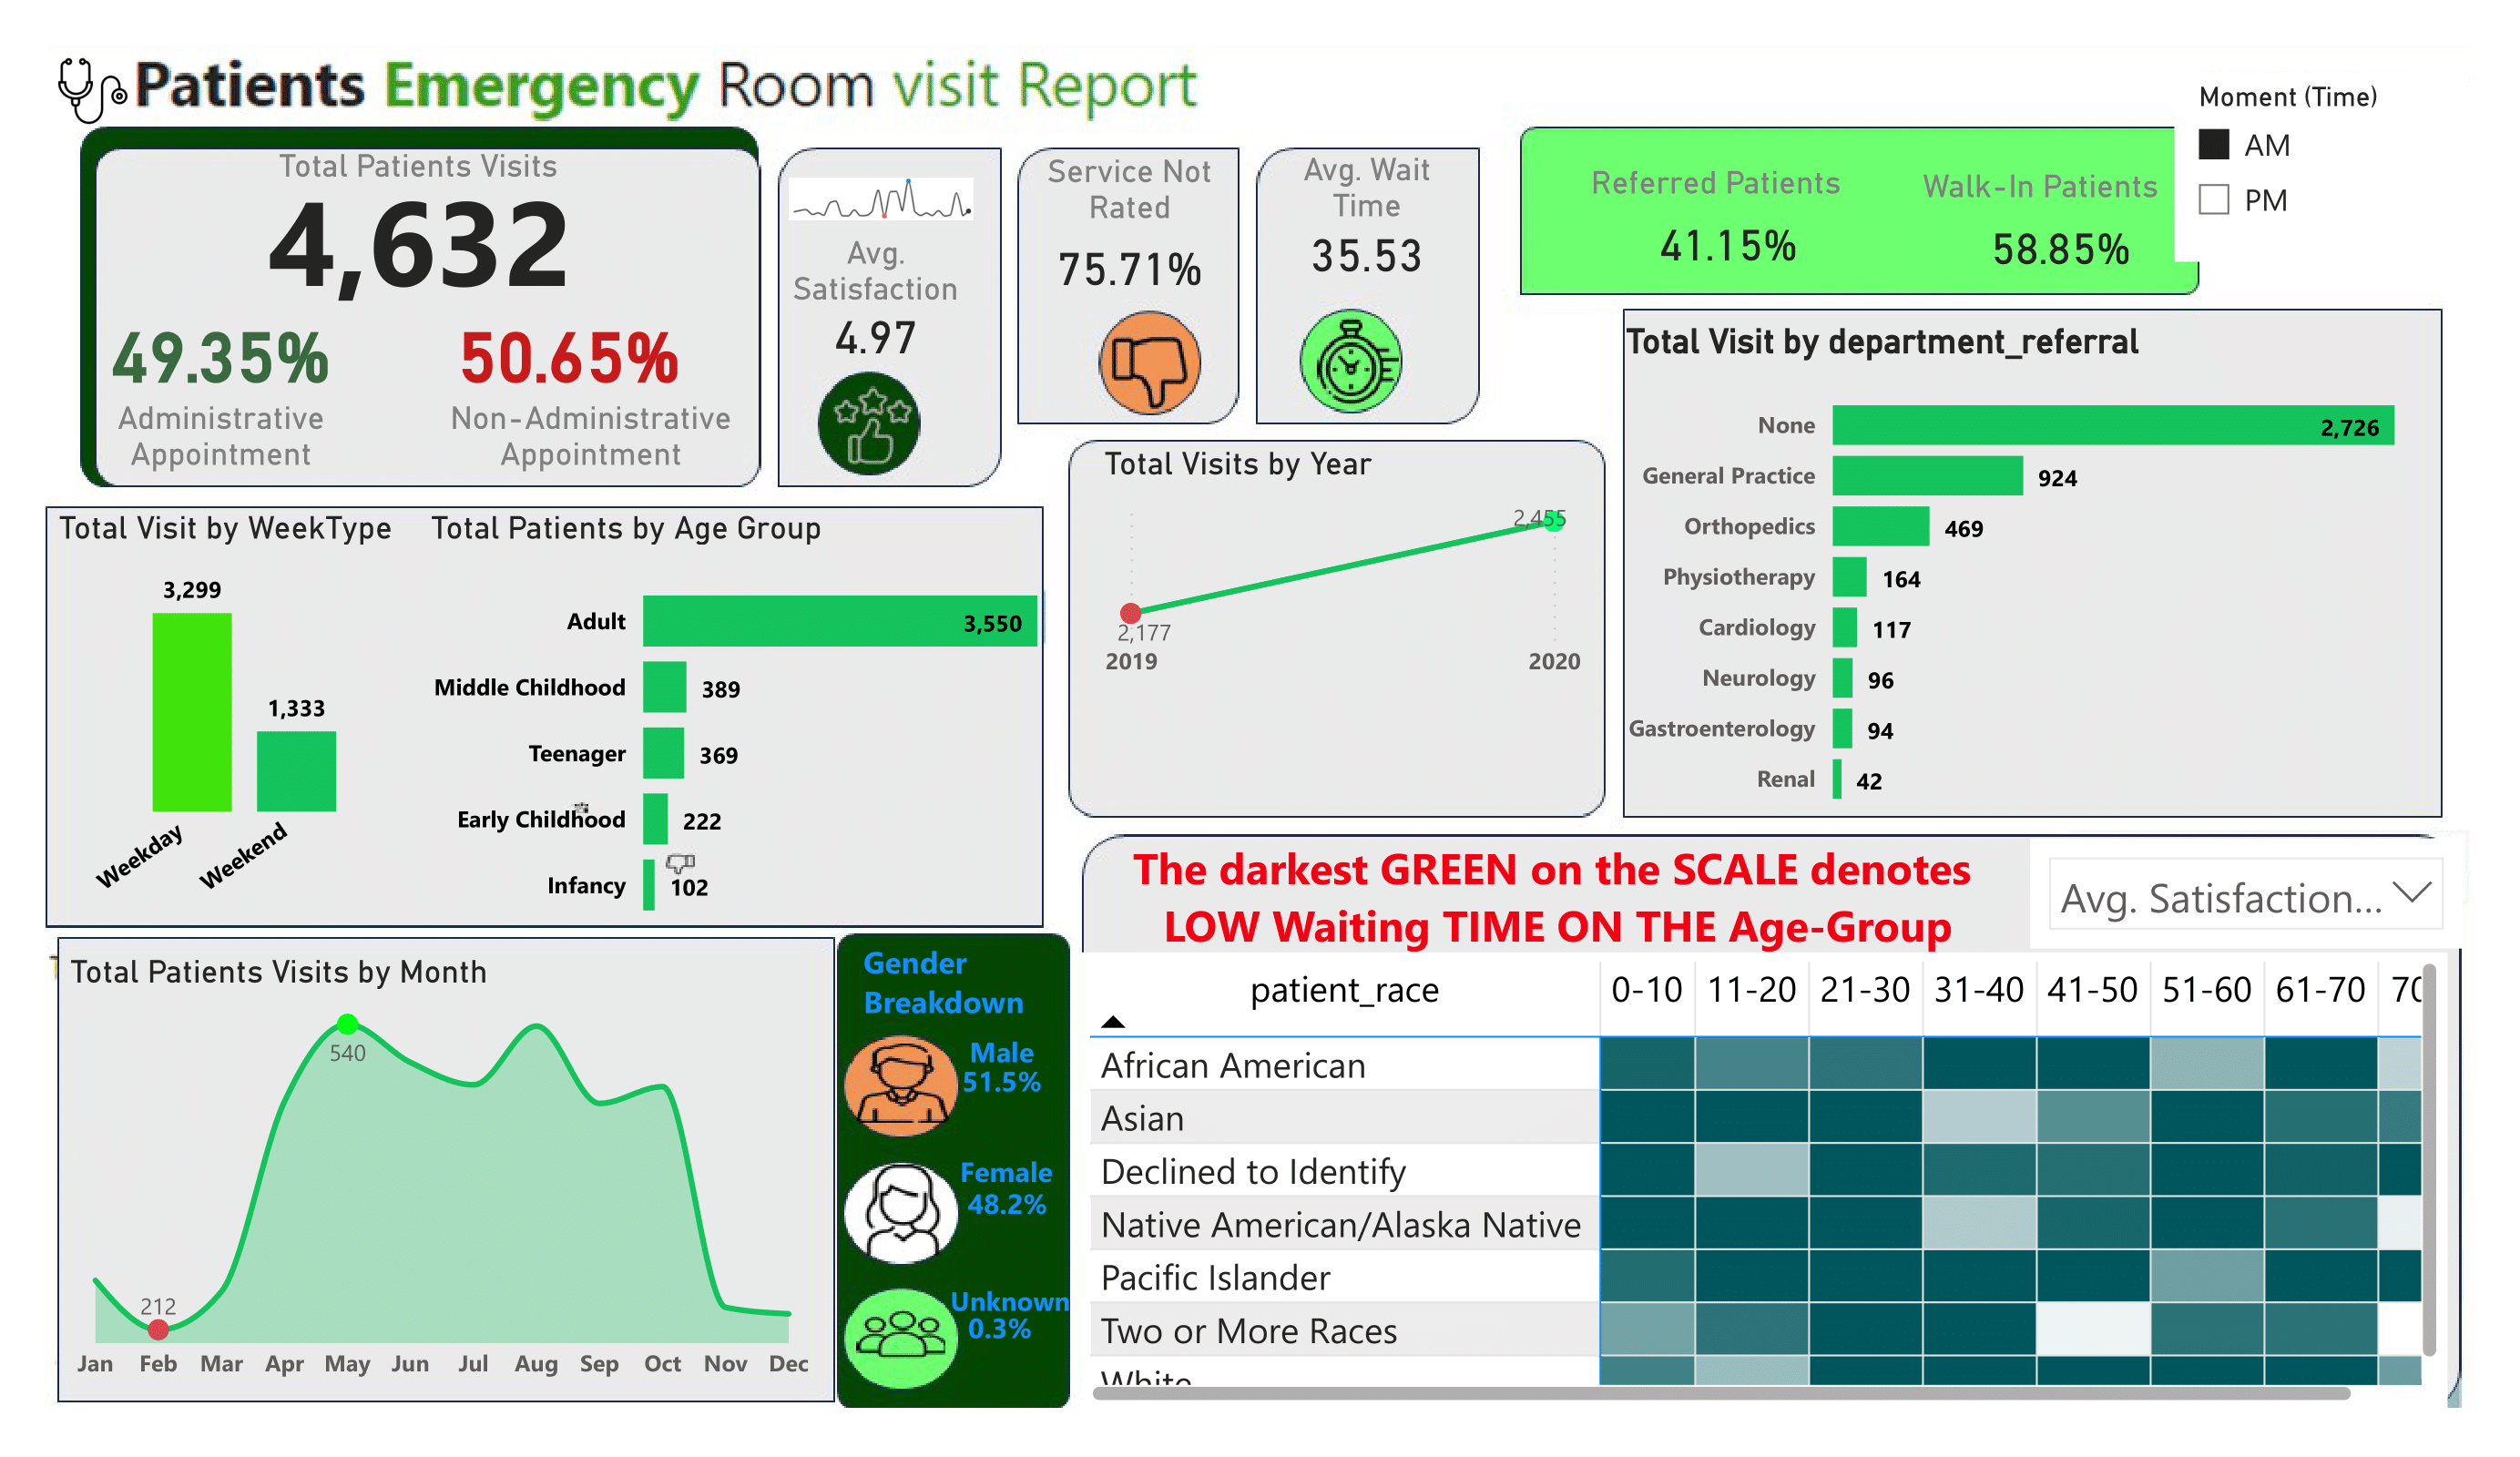

The dashboard page shown, as its layout file describes it:
{"tool":"powerbi","page":{"name":"Page 1","canvas":[1280,720],"ordinal":0},"visuals":[{"type":"card","title":"Total Patients Visit","fields":{"Values":["Calculation.Total Patients"]},"box":[60.2,54.2,275,90.3],"z":0},{"type":"card","fields":{"Values":["Calculation.% Administrative Schedule"]},"box":[29.5,128.4,126.3,65.2],"z":1000},{"type":"card","fields":{"Values":["Calculation.% None - Administrative Schedule"]},"box":[206.2,128.4,138.9,65.2],"z":2000},{"type":"card","fields":{"Values":["Calculation.% Refrred Patients"]},"box":[820.7,71.5,132.6,65.2],"z":3000},{"type":"pivotTable","fields":{"Values":["Calculation.Average Satisfaction Score"],"Rows":["Patient Dataset.patient_race"],"Columns":["Patient Dataset.Age Buckets"]},"box":[546.3,477.6,720,242.4],"z":4000},{"type":"slicer","fields":{"Values":["Parameter.Parameter"]},"box":[1046,418,228,58],"z":5000},{"type":"barChart","fields":{"Category":["Patient Dataset.Age Group"],"Y":["Calculation.Total Patients"]},"box":[198,244,356,232],"z":6000},{"type":"slicer","fields":{"Values":["Patient Dataset.Moment"]},"box":[1122.3,14.1,152.6,100.4],"z":7000},{"type":"clusteredBarChart","title":"Total Visit by department_referral","fields":{"Y":["Calculation.Total Patients"],"Category":["Patient Dataset.department_referral"]},"box":[827.6,144.6,453,268.5],"z":8000},{"type":"areaChart","title":"Total Patients Visits by Month","fields":{"Category":["Date.Month"],"Y":["Calculation.Total Patients","Calculation.Values Max Point (Month)"]},"box":[8,477.8,401.5,234.9],"z":9000},{"type":"lineChart","title":"Total Visits by Year","fields":{"Category":["Date.Year"],"Y":["Calculation.Total Patients","Calculation.Values Max Point (YEAR)"]},"box":[553.5,210.4,260.9,132.6],"z":10000},{"type":"card","fields":{"Values":["Calculation.% Un Refrred Patients"]},"box":[1000.8,74,122.1,65.2],"z":11000},{"type":"card","fields":{"Values":["Calculation.HitMap Caption"]},"box":[547.5,395.6,492.1,100.1],"z":12000},{"type":"columnChart","title":"Total Visit by WeekType","fields":{"Category":["Date.WeekType"],"Y":["Calculation.Total Patients"]},"box":[2.1,244.1,208.3,223.1],"z":13000},{"type":"textbox","box":[0,0,1122.8,39.8],"z":14000},{"type":"textbox","box":[2.1,181,181,56.8],"z":15000},{"type":"textbox","box":[197.8,181,178.9,56.8],"z":16000},{"type":"textbox","box":[117.8,48.4,183.1,42.1],"z":17000},{"type":"card","title":"Avg. Satisfaction","fields":{"Values":["Calculation.Average Satisfaction Score"]},"box":[381.4,99.1,112.9,70.2],"z":18000},{"type":"card","title":"Service Not Rated","fields":{"Values":["Calculation.% No Ratings"]},"box":[515,56.5,112.9,84],"z":19000},{"type":"card","title":"Avg. Wait Time","fields":{"Values":["Calculation.Average wait time"]},"box":[640.3,55.1,112.9,71.6],"z":20000},{"type":"textbox","box":[793.4,56.8,174.7,33.7],"z":21000},{"type":"textbox","box":[962.9,59.2,176.8,33.7],"z":22000},{"type":"card","fields":{"Values":["Calculation.% Male Visit"]},"box":[477,534.2,53.9,26.1],"z":23000},{"type":"card","fields":{"Values":["Calculation.% Unknown Visit"]},"box":[472.1,637.1,62.1,81.7],"z":24000},{"type":"card","fields":{"Values":["Calculation.% Female Visit"]},"box":[480.3,578.3,53.9,68.6],"z":25000},{"type":"image","box":[2,0,46.2,48.2],"z":26000},{"type":"textbox","box":[426.4,467.2,107.8,58.8],"z":27000},{"type":"image","box":[386.9,48.2,107.4,66.1],"z":28000},{"type":"textbox","box":[477,514.6,53.9,32.7],"z":30000},{"type":"textbox","box":[477,578.3,70.2,32.7],"z":31000},{"type":"textbox","box":[472.1,646.9,81.7,40.8],"z":32000}]}

Visuals, with their boxes in screenshot pixels (x1, y1, x2, y2):
"Total Patients Visit" card: (x1=159, y1=148, x2=681, y2=320)
card - Calculation.% Administrative Schedule: (x1=101, y1=290, x2=342, y2=413)
card - Calculation.% None - Administrative Schedule: (x1=437, y1=290, x2=700, y2=413)
card - Calculation.% Refrred Patients: (x1=1603, y1=181, x2=1854, y2=305)
pivotTable - Calculation.Average Satisfaction Score x Patient Dataset.patient_race: (x1=1082, y1=952, x2=2448, y2=1411)
slicer - Parameter.Parameter: (x1=2030, y1=839, x2=2463, y2=949)
barChart - Patient Dataset.Age Group x Calculation.Total Patients: (x1=422, y1=508, x2=1097, y2=949)
slicer - Patient Dataset.Moment: (x1=2175, y1=72, x2=2464, y2=263)
"Total Visit by department_referral" clusteredBarChart: (x1=1616, y1=320, x2=2474, y2=830)
"Total Patients Visits by Month" areaChart: (x1=61, y1=952, x2=822, y2=1398)
"Total Visits by Year" lineChart: (x1=1096, y1=444, x2=1591, y2=697)
card - Calculation.% Un Refrred Patients: (x1=1944, y1=186, x2=2177, y2=310)
card - Calculation.HitMap Caption: (x1=1085, y1=796, x2=2018, y2=986)
"Total Visit by WeekType" columnChart: (x1=49, y1=509, x2=444, y2=932)
textbox: (x1=46, y1=46, x2=2176, y2=121)
textbox: (x1=49, y1=389, x2=393, y2=496)
textbox: (x1=421, y1=389, x2=760, y2=496)
textbox: (x1=269, y1=138, x2=617, y2=218)
"Avg. Satisfaction" card: (x1=770, y1=233, x2=984, y2=367)
"Service Not Rated" card: (x1=1023, y1=153, x2=1237, y2=312)
"Avg. Wait Time" card: (x1=1260, y1=150, x2=1474, y2=286)
textbox: (x1=1551, y1=153, x2=1882, y2=218)
textbox: (x1=1872, y1=158, x2=2209, y2=222)
card - Calculation.% Male Visit: (x1=951, y1=1059, x2=1053, y2=1108)
card - Calculation.% Unknown Visit: (x1=942, y1=1254, x2=1059, y2=1410)
card - Calculation.% Female Visit: (x1=957, y1=1143, x2=1059, y2=1273)
image: (x1=49, y1=46, x2=137, y2=137)
textbox: (x1=854, y1=932, x2=1059, y2=1044)
image: (x1=780, y1=137, x2=984, y2=262)
textbox: (x1=951, y1=1022, x2=1053, y2=1084)
textbox: (x1=951, y1=1143, x2=1084, y2=1205)
textbox: (x1=942, y1=1273, x2=1097, y2=1350)
